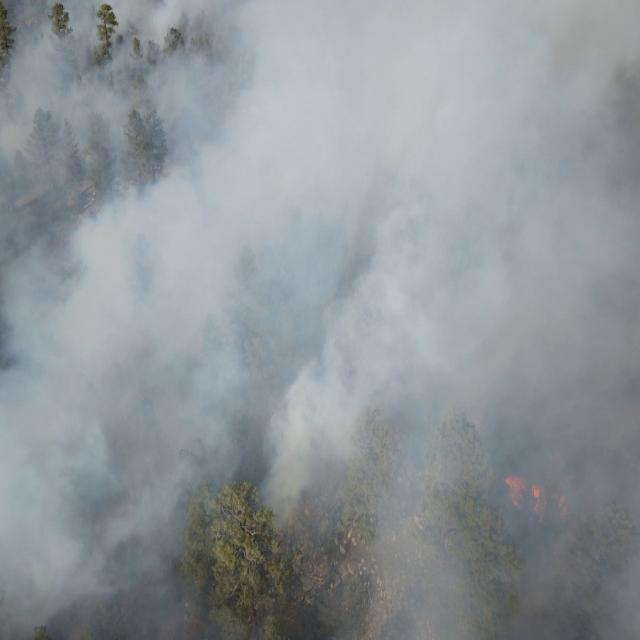fire: (502, 468, 568, 522)
smoke: (190, 2, 640, 522), (0, 0, 189, 640), (334, 522, 640, 640)
